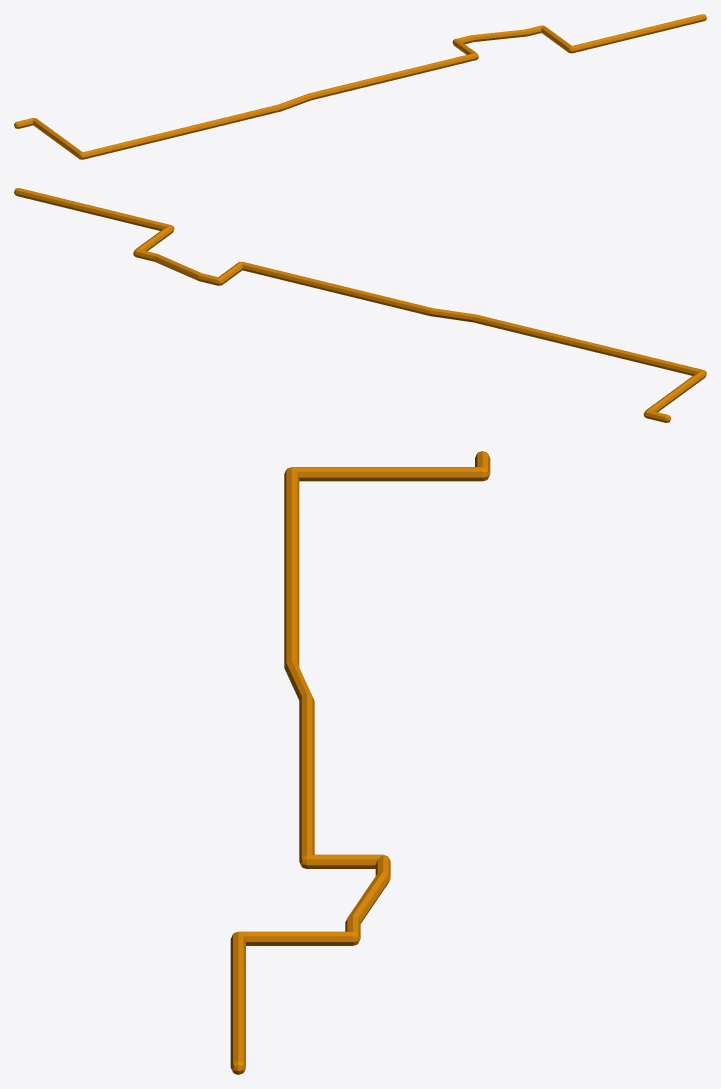
3 renders of one model, top to bottom at view 1: azimuth 30°, elevation 25°; view 2: azimuth 150°, elevation 25°; view 3: azimuth 270°, elevation 25°, orthographic. The views are drawn at different scales.
Bounding box in the file's own units: 1911 × 20 × 340.
